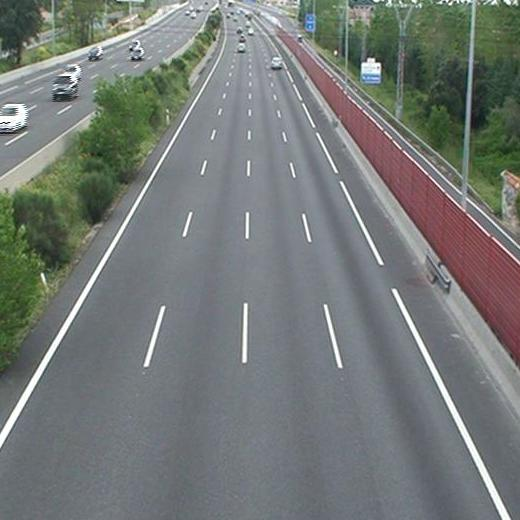car: (270, 56, 282, 67), (237, 44, 245, 53)
